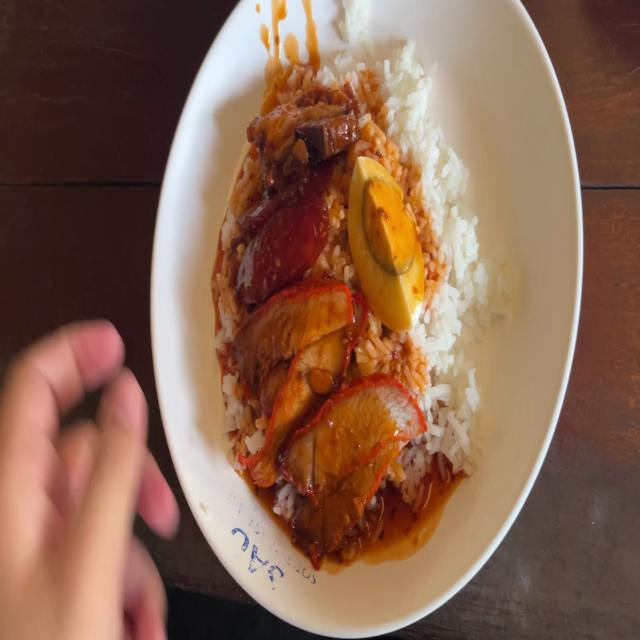01boiled_egg: (352, 160, 424, 325)
01chainese_sausage: (234, 182, 338, 288)
01crispy_pork: (252, 78, 358, 158)
01red_pork: (232, 293, 409, 523)
01red_pork_and_crispy_pork: (217, 53, 500, 526)
01rice: (419, 162, 490, 466), (360, 54, 446, 166)
